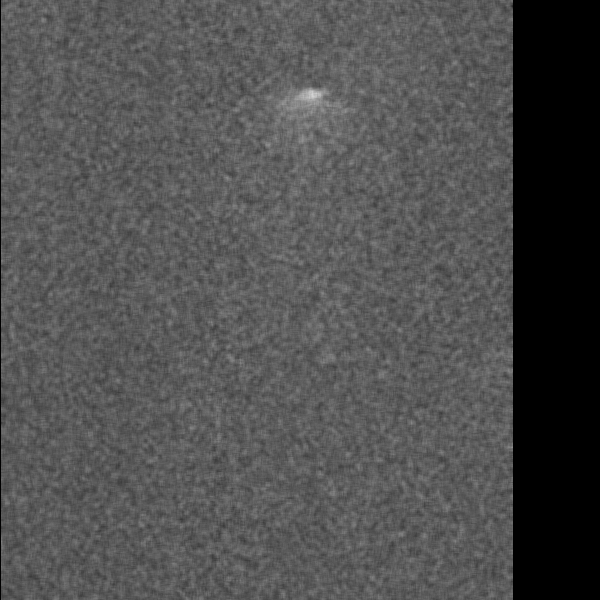spark: (206, 76, 244, 113)
